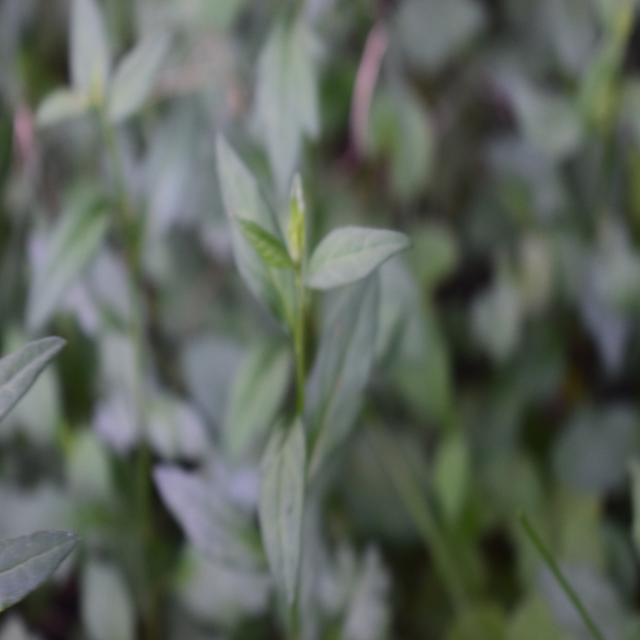Indian aster: (201, 168, 430, 594)
